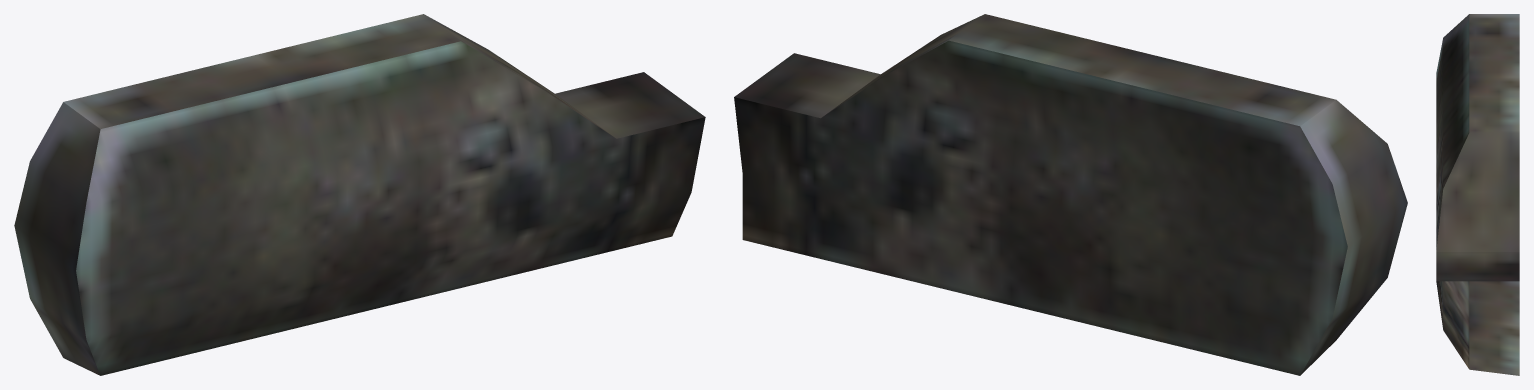
File: zatvor.obj
3 renders of one model, left to right at view 1: azimuth 30°, elevation 25°; view 2: azimuth 150°, elevation 25°; view 3: azimuth 270°, elevation 25°, orthographic. The views are drawn at different scales.
Parts seen in each view (by area): view 1: wpn34_saiga; view 2: wpn34_saiga; view 3: wpn34_saiga.
Boxes of the visible parts, box(x1,y1,x2,y2) form: wpn34_saiga: box(14, 14, 705, 375); wpn34_saiga: box(734, 14, 1407, 375); wpn34_saiga: box(1436, 14, 1519, 375).
Bounding box in the file's own units: 0.0283 × 0.011 × 0.0048.
Materials: 1 (1 with a texture image).
